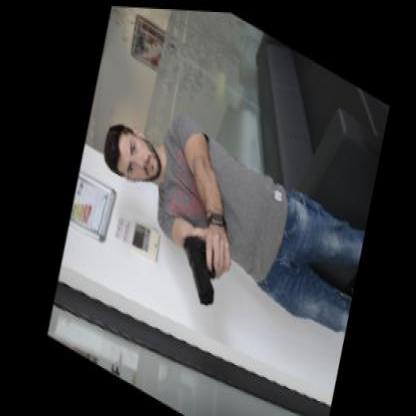pistol: (169, 226, 222, 306)
